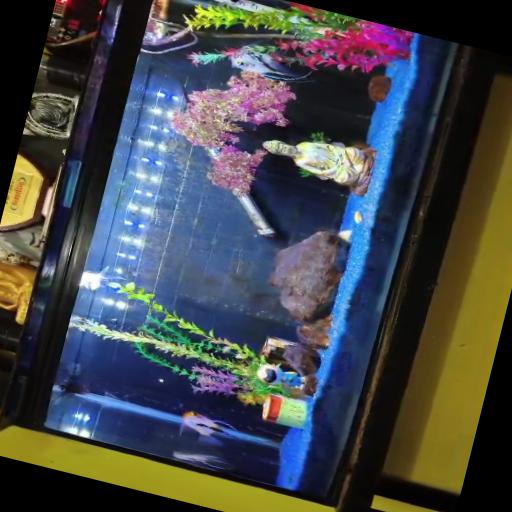Fish: (231, 45, 312, 82), (180, 410, 237, 446), (173, 450, 231, 469), (81, 266, 125, 290)
